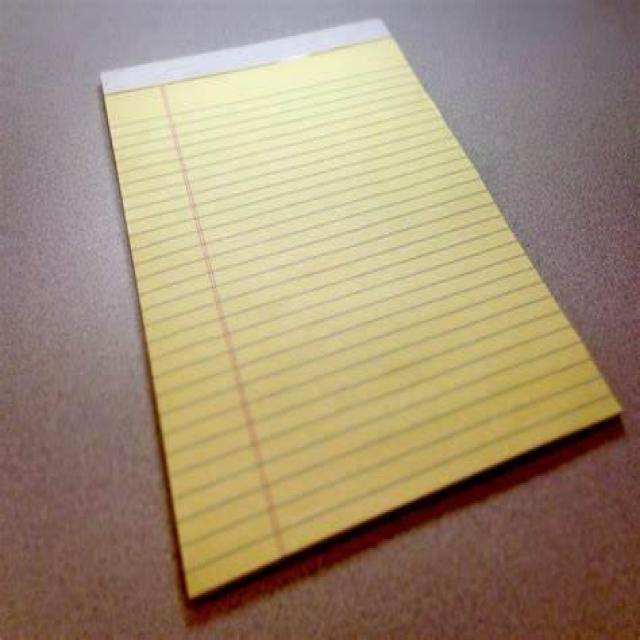paper: (98, 16, 622, 602)
